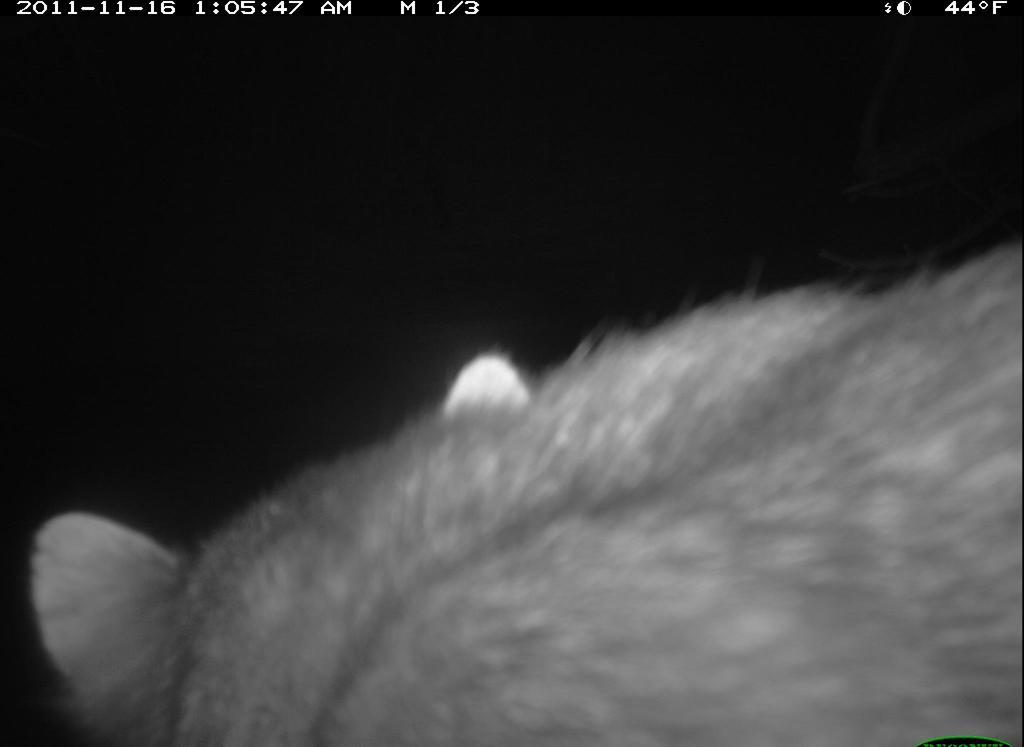raccoon: (13, 232, 1017, 739)
